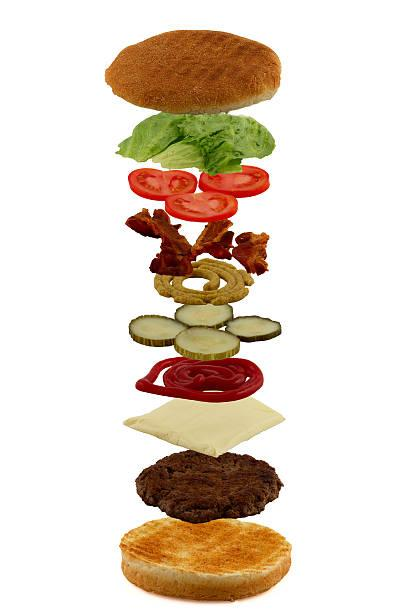organic: (105, 30, 281, 114), (135, 450, 281, 523), (127, 519, 284, 573), (122, 553, 288, 601), (135, 356, 262, 400), (126, 403, 220, 451), (154, 259, 252, 300), (203, 402, 284, 451), (116, 112, 187, 161), (199, 164, 270, 197), (174, 326, 240, 360), (125, 529, 183, 566), (164, 191, 233, 222), (131, 168, 197, 200), (163, 31, 242, 57), (214, 453, 277, 483), (129, 315, 184, 347), (230, 231, 270, 275), (200, 137, 243, 176), (170, 461, 233, 485), (124, 209, 166, 238), (229, 316, 278, 339), (185, 305, 225, 324), (115, 135, 143, 159), (104, 60, 122, 90)
